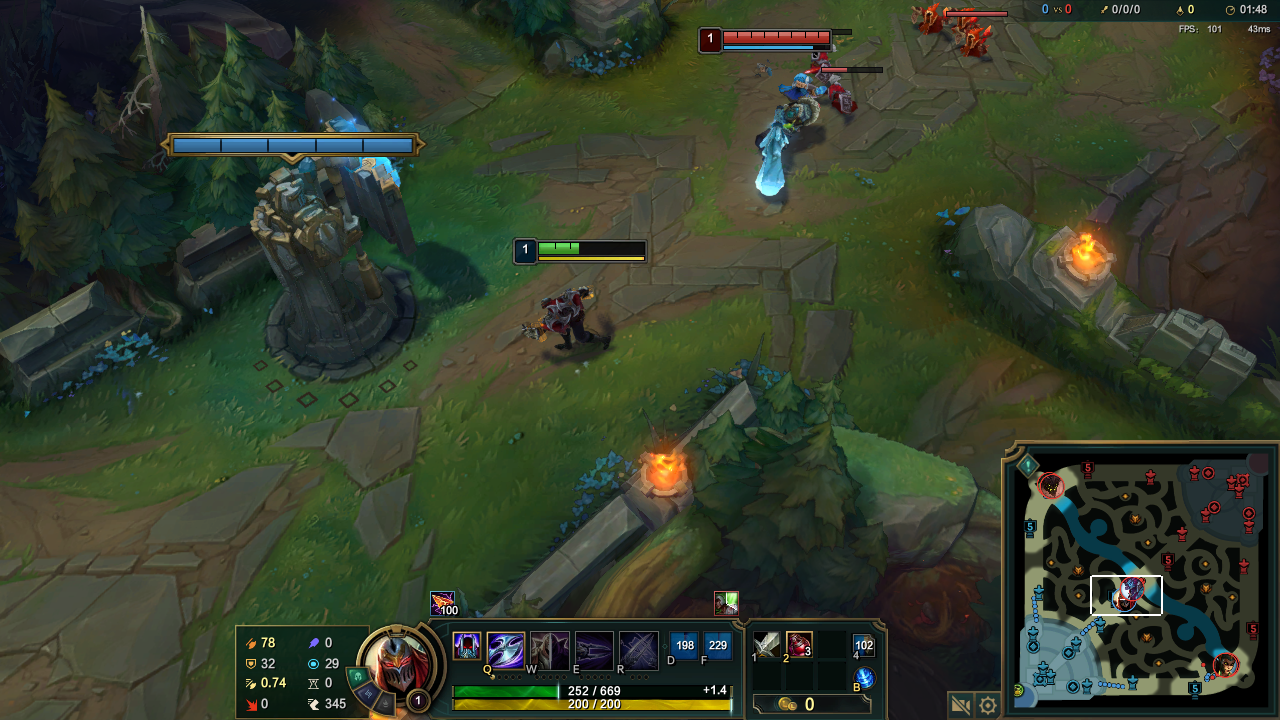DFYX: (723, 31, 830, 45)
Yita: (1186, 674, 1204, 699)
